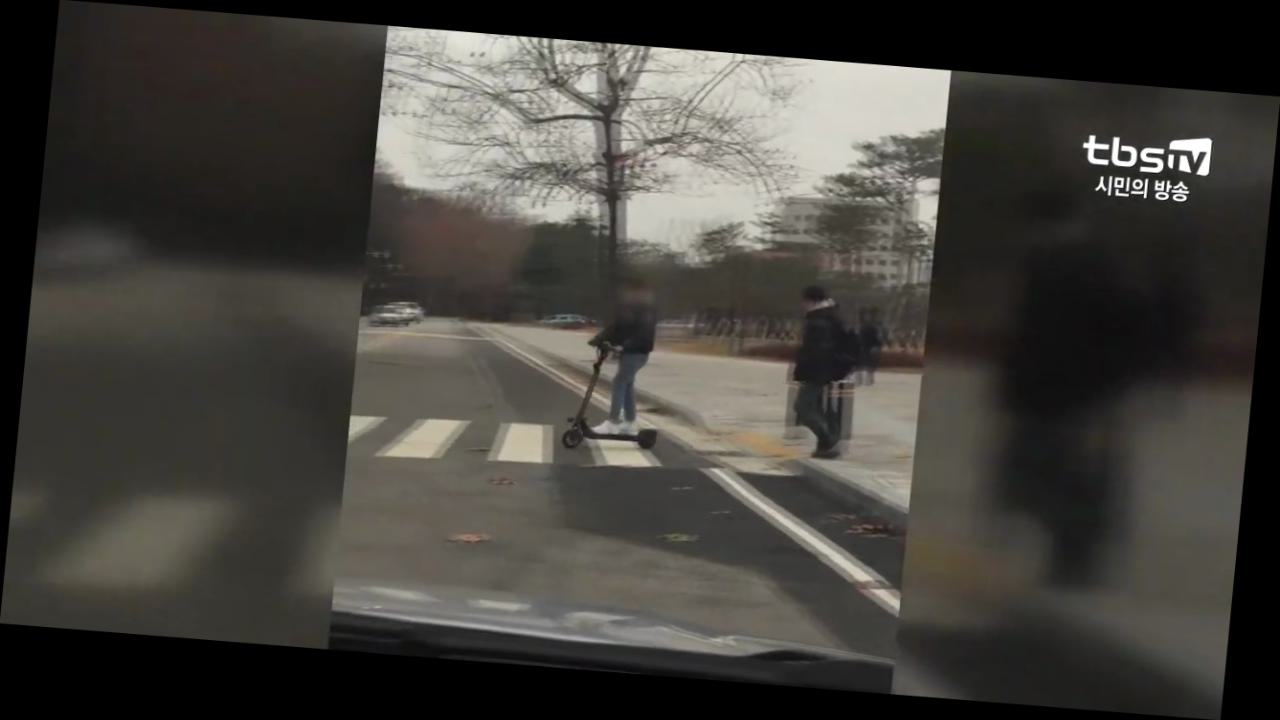nonhelmet: (561, 271, 684, 461)
